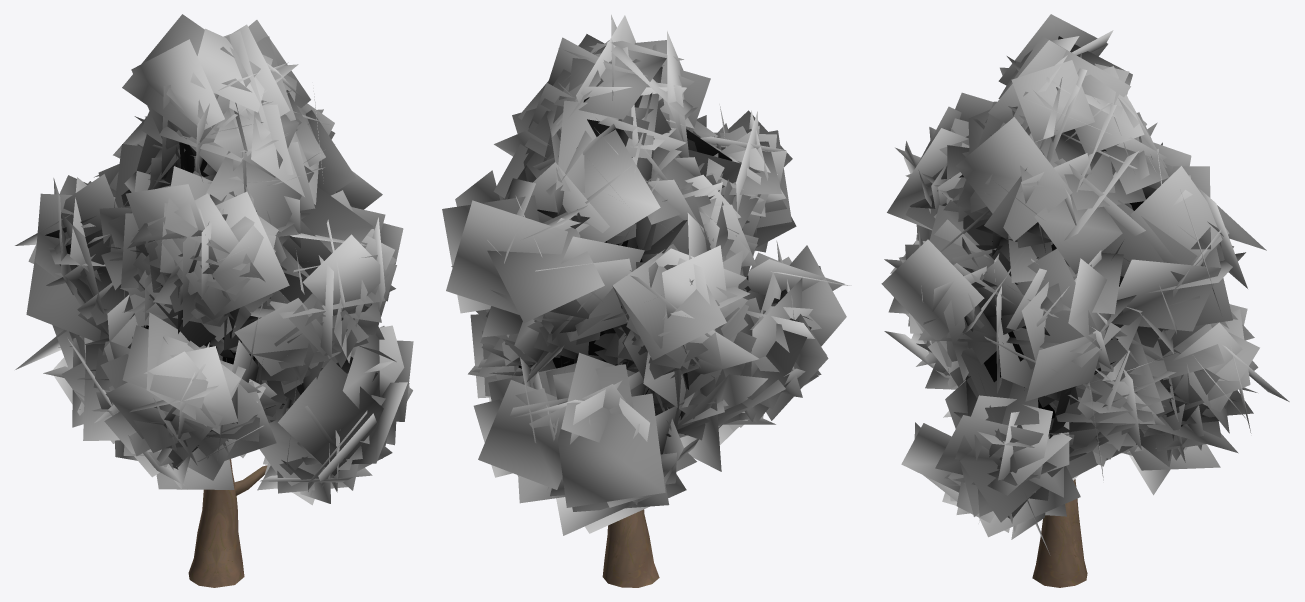
File: Scene_dashu_002.fbx
3 views of the same model, side by side, from view 1: azimuth 30°, elevation 25°; view 2: azimuth 150°, elevation 25°; view 3: azimuth 270°, elevation 25° (orthographic).
Parts seen in each view (by area): view 1: Scene_dashu_002_LOD0; view 2: Scene_dashu_002_LOD0; view 3: Scene_dashu_002_LOD0.
Part boxes in pixels (<box>): Scene_dashu_002_LOD0: <box>15,14,413,587</box>; Scene_dashu_002_LOD0: <box>442,14,851,587</box>; Scene_dashu_002_LOD0: <box>881,14,1289,587</box>.
Size of what is drawn, in the model's own units: 1310 by 2025 by 1370.
